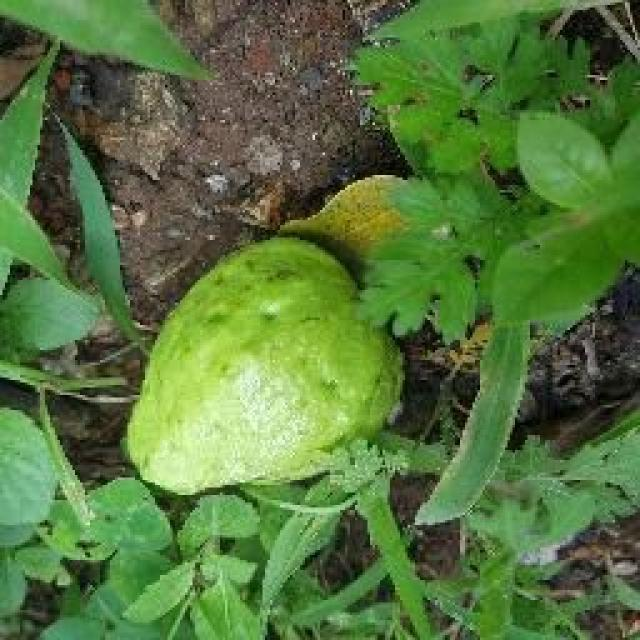Good_Guava: (122, 235, 410, 500)
